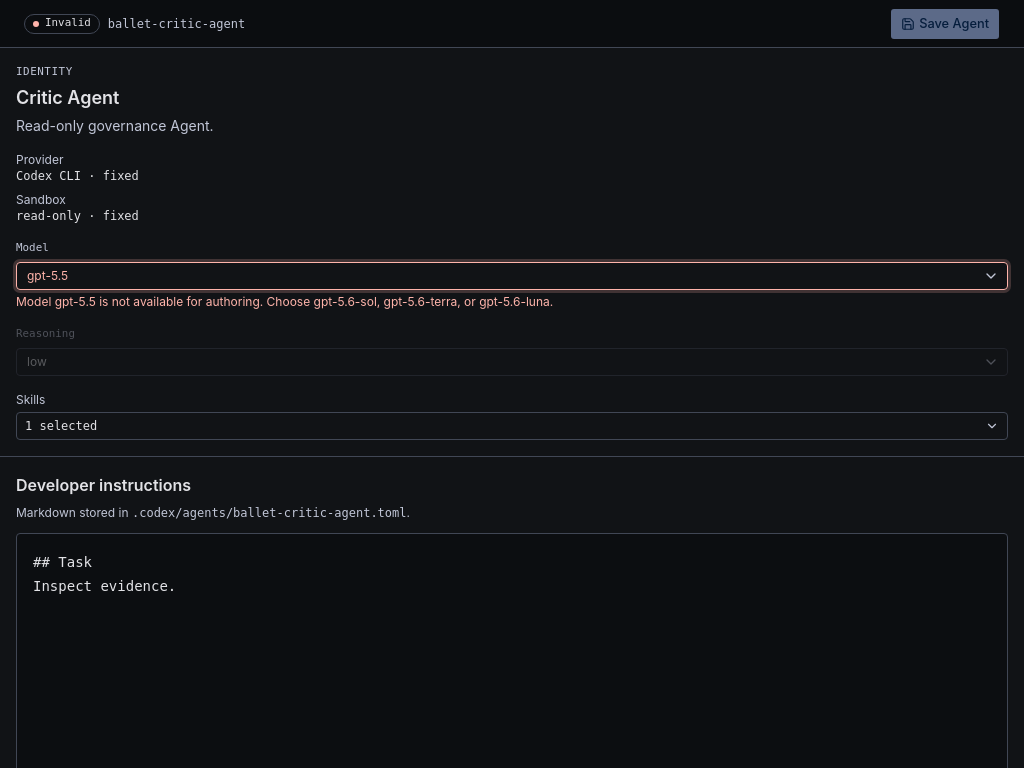
Test: orchestration Configure editors › blocks governance save for a legacy model and offers only Sol, Terra and Luna
Expected: the message shows "Model gpt-5.5 is not available for authoring. Choose gpt-5.6-sol, gpt-5.6-terra, or gpt-5.6-luna.", [16,294,553,309]
Expected: the button "Save Agent" is disabled, [890,8,1000,40]
Click the dropdown named "Model" at (48,276), box [16,262,1008,290]
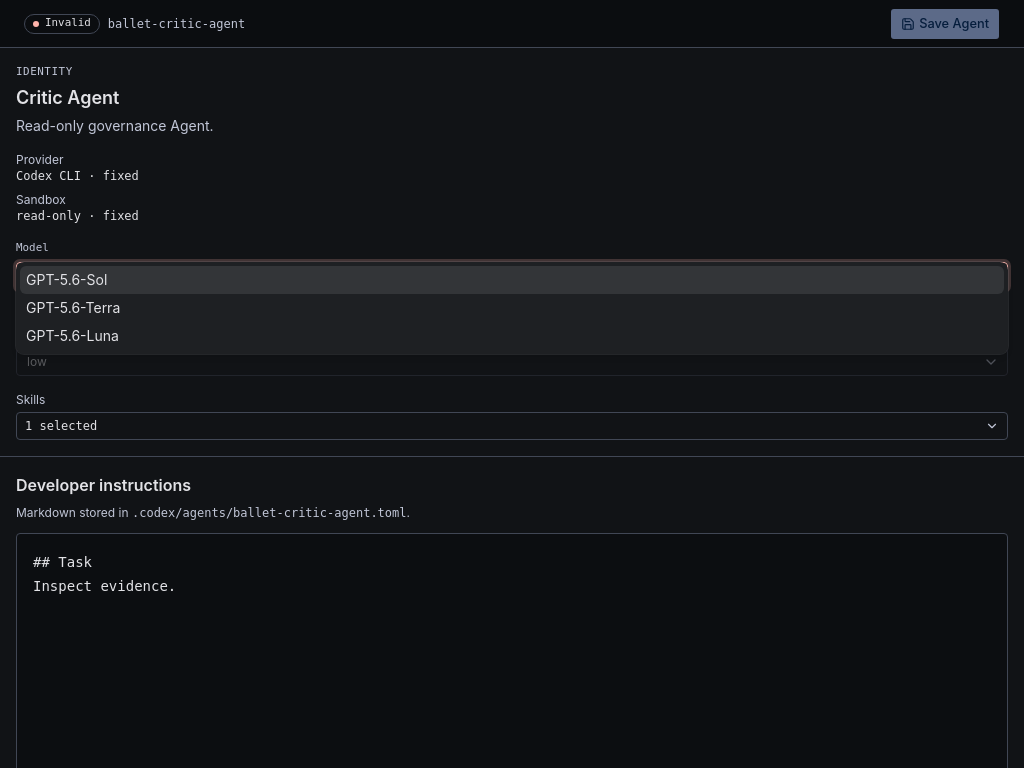
Now the options read "GPT-5.6-Sol", "GPT-5.6-Terra", "GPT-5.6-Luna", in this order
Click the option "GPT-5.6-Sol" at (67,280), box [20,266,1004,294]
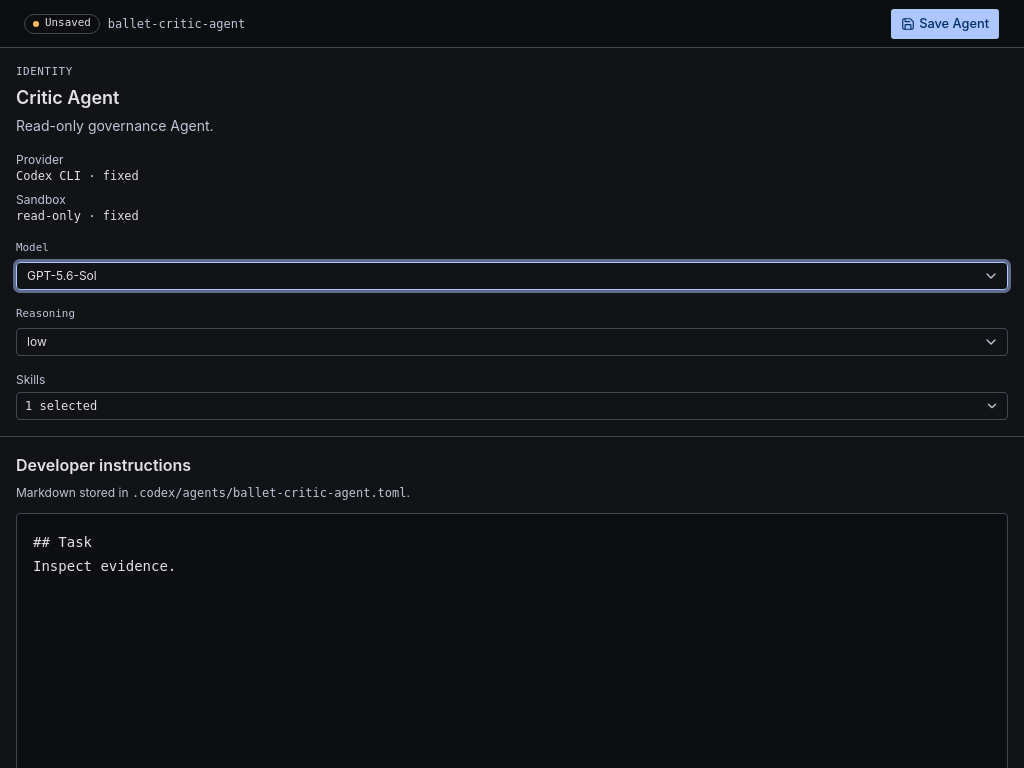
Now the message is gone
Now the button "Save Agent" is enabled, box [890,8,1000,40]
